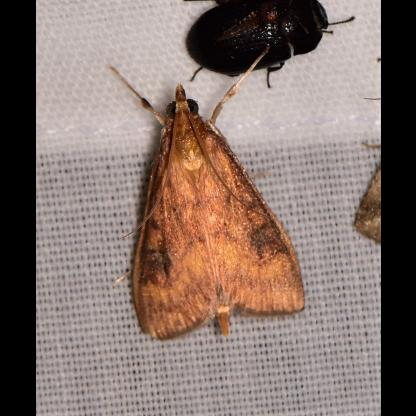Asian Corn Borer Moth: (105, 44, 308, 344), (346, 135, 380, 251)
